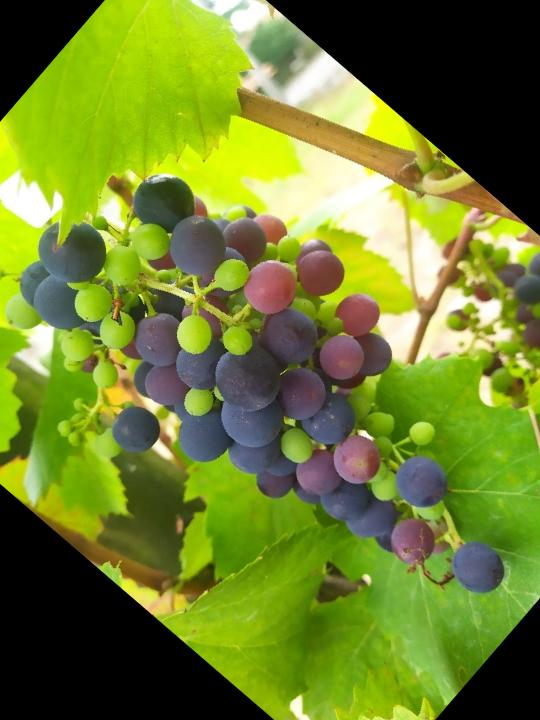grape: (0, 79, 540, 718)
